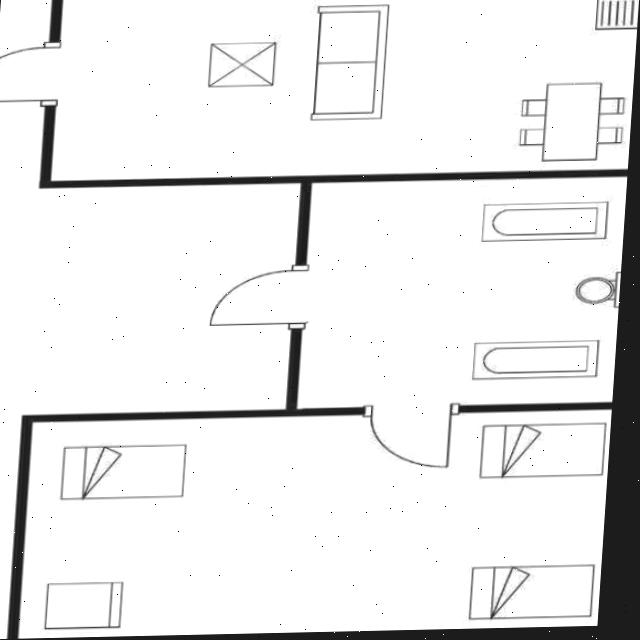room: (13, 409, 617, 639), (50, 0, 639, 181), (291, 176, 632, 409)
